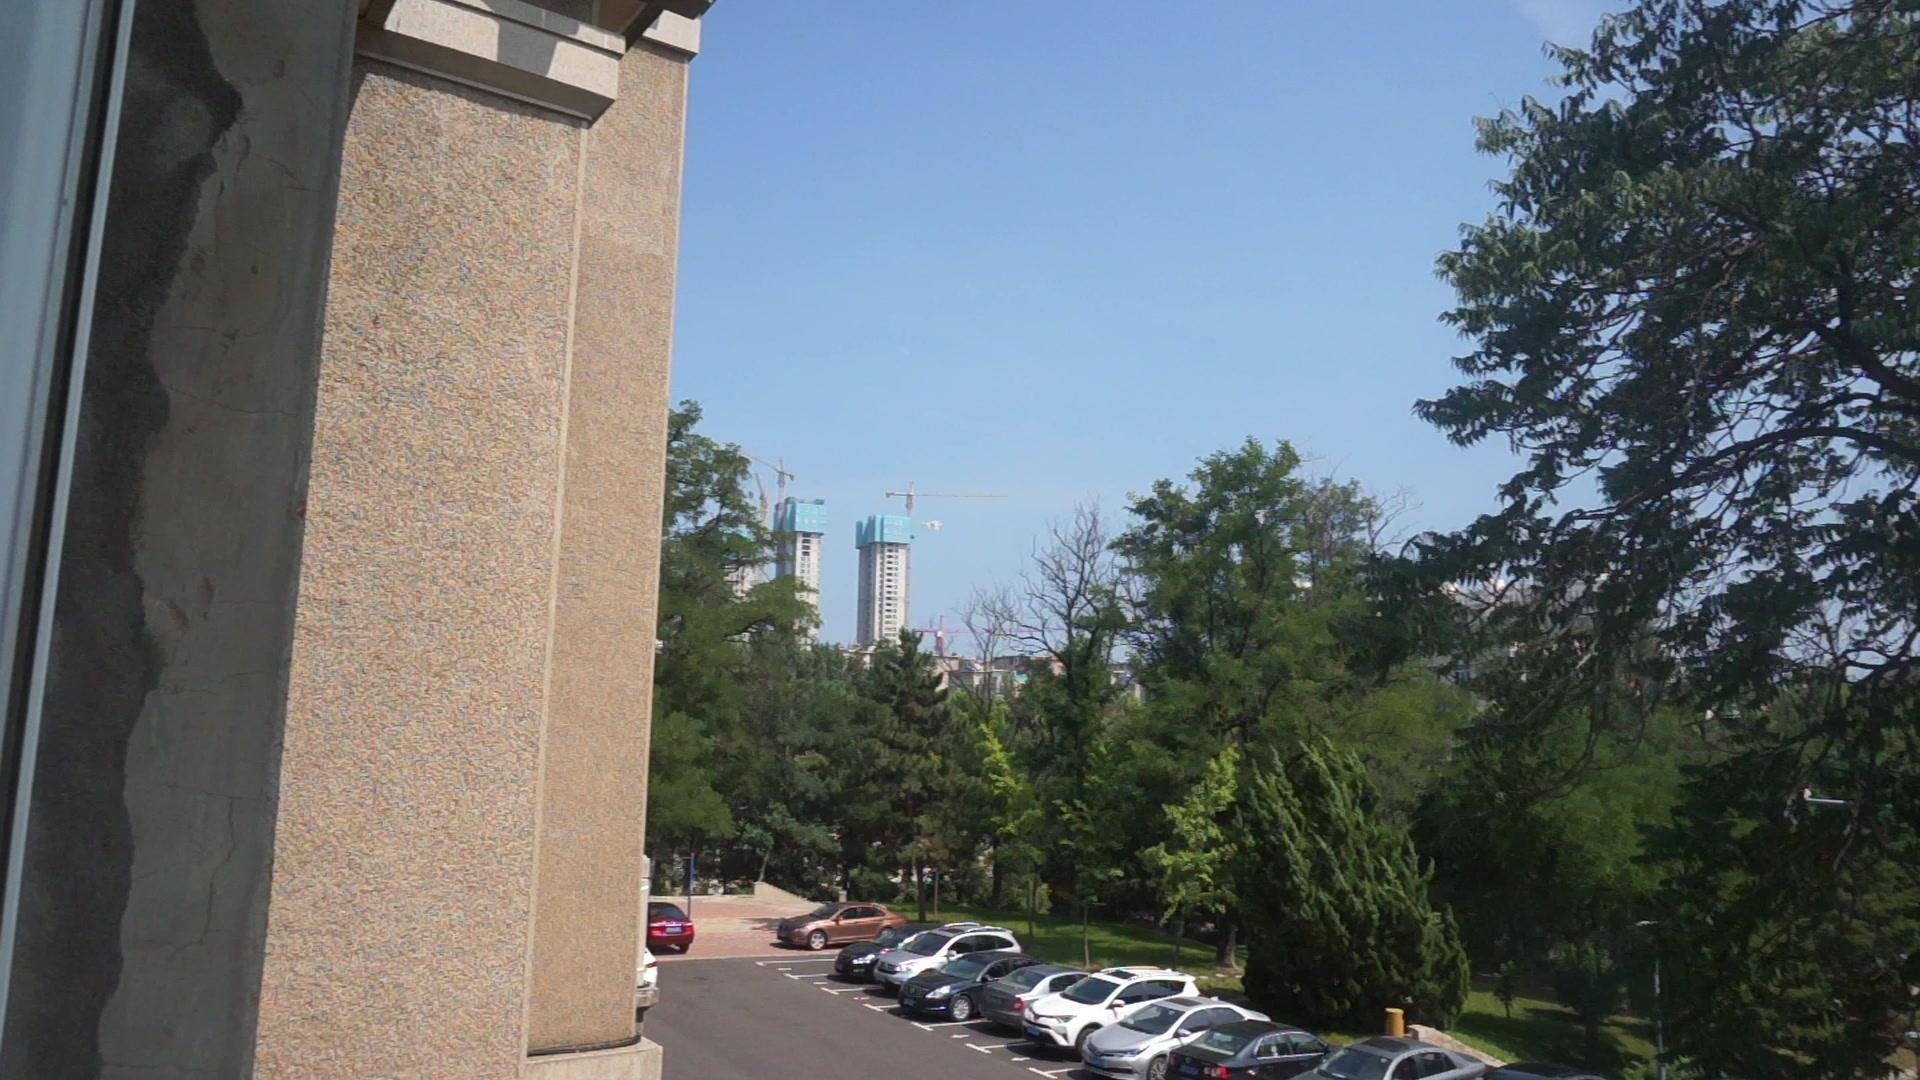UAV: (920, 521, 945, 531)
